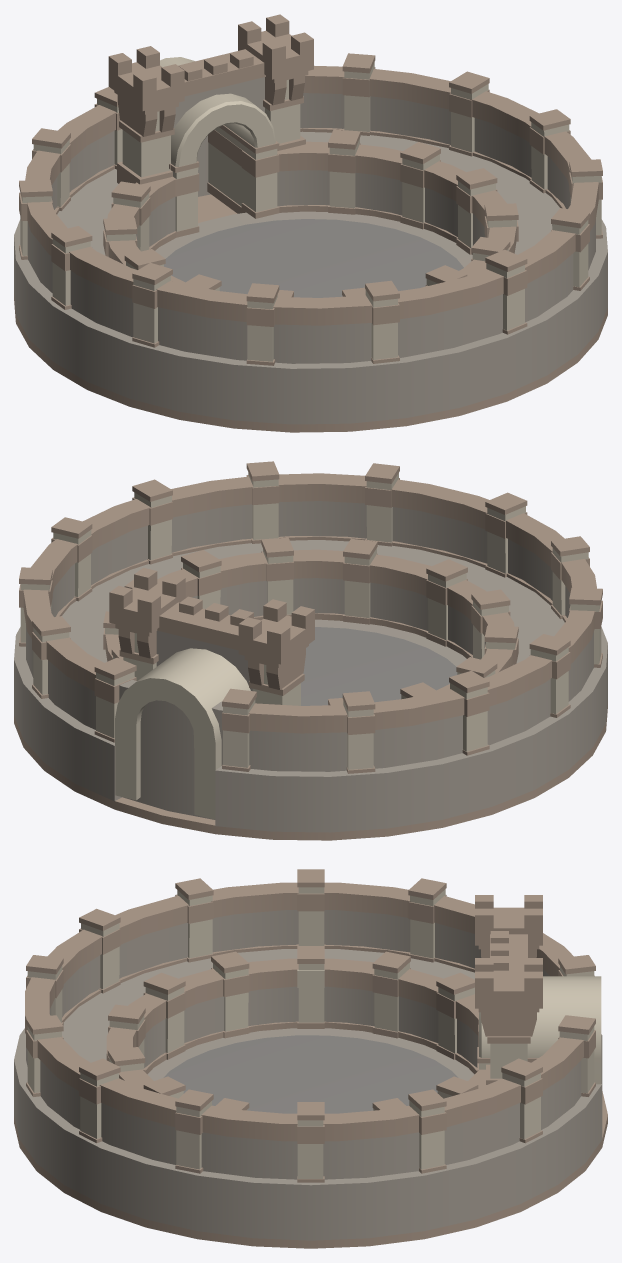
Rendered from Battle_Stage_v2.fbx.
The picture shows the model from 3 angles, top to bottom: view 1: azimuth 30°, elevation 25°; view 2: azimuth 150°, elevation 25°; view 3: azimuth 270°, elevation 25°; orthographic projection.
Parts seen in each view (by area): view 1: pPipe23, pPipe24, pPipe40, pCylinder1, pPipe7, pCube33, pPipe3, pCylinder2, pCube15, pCube32, pPipe39, polySurface57 (+36 smaller); view 2: pPipe23, pPipe24, pPipe40, pPipe7, pCylinder1, pCube33, pPipe3, pCylinder2, pPipe39, pCube32, polySurface9, polySurface65 (+44 smaller); view 3: pPipe23, pPipe24, pPipe40, pCylinder1, pPipe3, pCube33, pCylinder2, pPipe7, pPipe2, pPipe39, pCube26, polySurface89 (+41 smaller).
Boxes of the visible parts, x1,y1,x2,y2 form: pPipe23: (14,131,607,424); pPipe24: (27,93,595,363); pPipe40: (25,65,598,325); pCylinder1: (155,211,472,297); pPipe7: (160,57,277,231); pCube33: (108,14,313,111); pPipe3: (107,141,516,286); pCylinder2: (14,194,607,432); pCube15: (122,111,170,177); pCube32: (173,77,264,127); pPipe39: (54,128,565,214); polySurface57: (365,290,397,359); pPipe23: (14,540,607,832); pPipe24: (26,501,593,819); pPipe40: (23,473,596,733); pPipe7: (115,648,250,819); pCylinder1: (301,619,466,705); pCube33: (109,567,314,664); pPipe3: (105,549,514,691); pCylinder2: (14,701,607,840); pPipe39: (56,536,567,622); pCube32: (156,630,252,690); polySurface9: (344,548,376,617); polySurface65: (366,473,398,542); pPipe23: (14,949,602,1240); pPipe24: (26,910,581,1179); pPipe40: (25,882,583,1141); pCylinder1: (147,1028,474,1113); pPipe3: (106,958,486,1088); pCube33: (475,895,542,1008); pCylinder2: (14,1091,607,1248); pPipe7: (479,976,601,1084); pPipe2: (144,1021,477,1074); pPipe39: (62,944,474,1022); pCube26: (481,1012,536,1036); polySurface89: (409,1100,444,1169).
Bounding box in the file's own units: 22.3 × 7.72 × 22.3.
